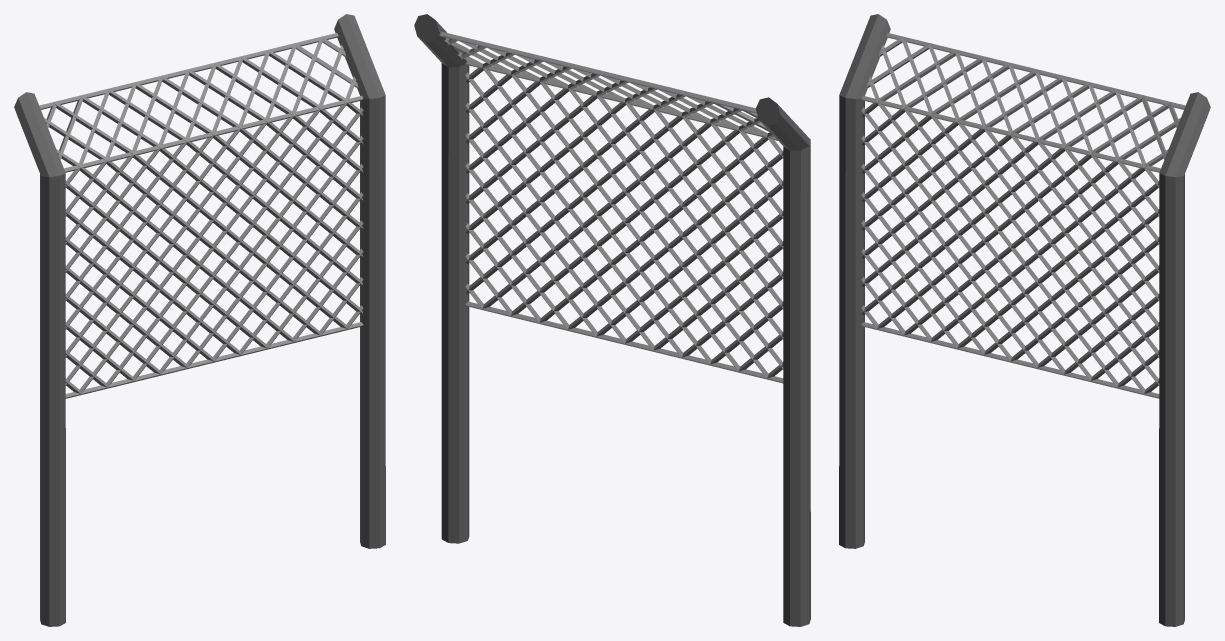
Rendered from Fence.fbx.
3 renders of one model, left to right at view 1: azimuth 30°, elevation 25°; view 2: azimuth 150°, elevation 25°; view 3: azimuth 330°, elevation 25°, orthographic. The views are drawn at different scales.
Visible parts, largest first — view 1: start.002; view 2: start.002; view 3: start.002.
Boxes of the visible parts, x1,y1,x2,y2 form: start.002: (14, 14, 385, 626); start.002: (414, 14, 810, 626); start.002: (839, 14, 1210, 626).
Bounding box in the file's own units: 296 × 420 × 51.74.
Materials: 1 (1 with a texture image).
